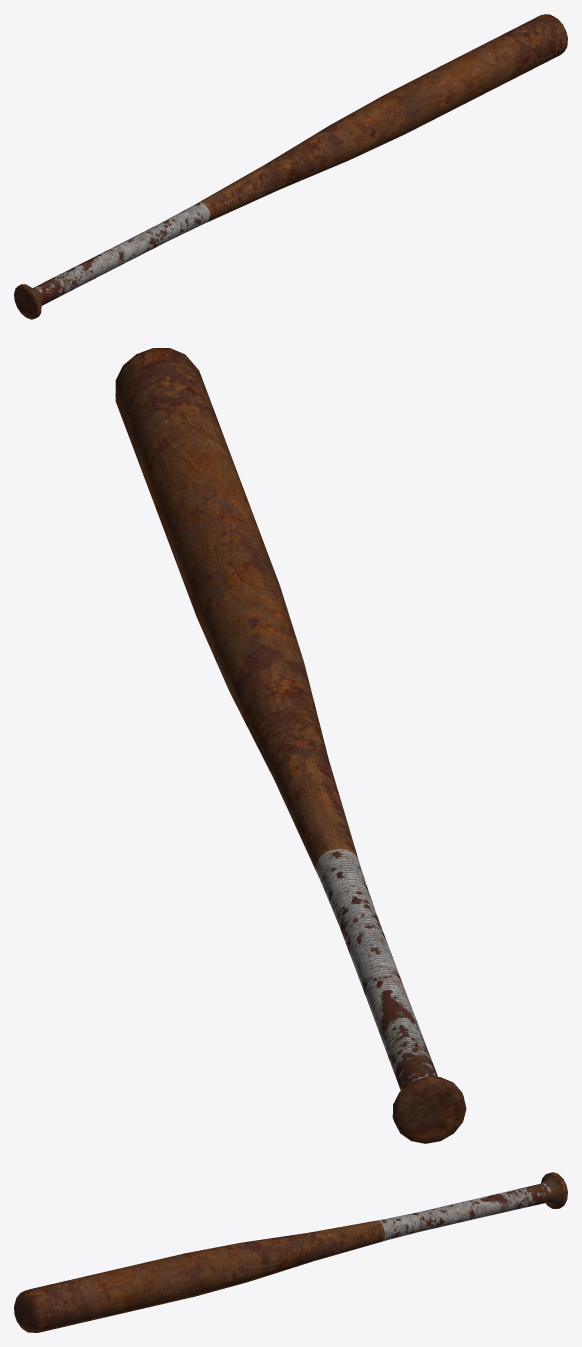
File: Anim_idle_bate_objetos.0044.obj
3 views of the same model, one above another, from view 1: azimuth 90°, elevation 25°; view 2: azimuth 150°, elevation 25°; view 3: azimuth 270°, elevation 25° (orthographic). The views are drawn at different scales.
Parts seen in each view (by area): view 1: Bate1; view 2: Bate1; view 3: Bate1.
Boxes of the visible parts, <box> form: Bate1: <box>14,14,567,319</box>; Bate1: <box>115,348,466,1143</box>; Bate1: <box>14,1172,567,1332</box>.
Size of the model in its own units: 3.69 by 0.907 by 4.15.
